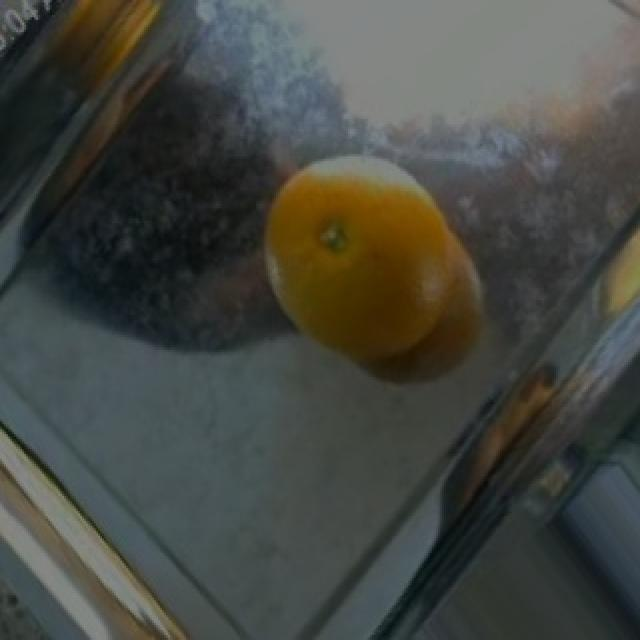Fruit: (240, 131, 500, 387), (590, 196, 640, 347)
